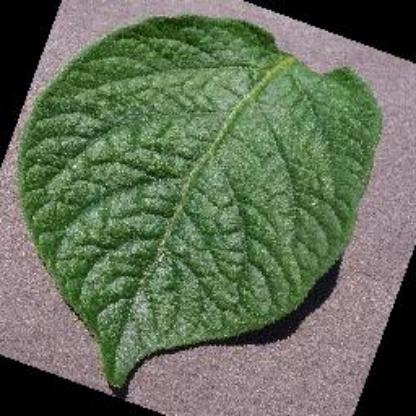Healthy-plant: (16, 11, 394, 396)
